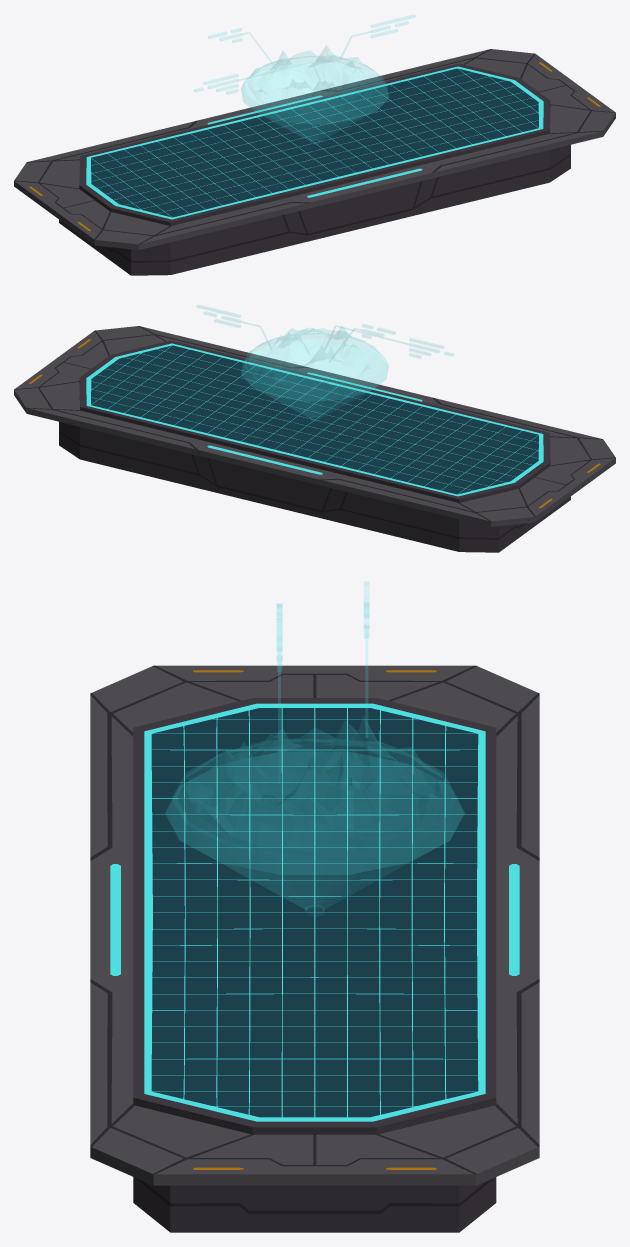
Rendered from SM_Props_Furniture_04.fbx.
3 renders of one model, top to bottom at view 1: azimuth 30°, elevation 25°; view 2: azimuth 150°, elevation 25°; view 3: azimuth 270°, elevation 25°, orthographic. The views are drawn at different scales.
Visible parts, largest first — view 1: SM_Props_Furniture_04, SM_Props_Furniture_04_02, SM_Props_Furniture_04_01; view 2: SM_Props_Furniture_04, SM_Props_Furniture_04_02, SM_Props_Furniture_04_01; view 3: SM_Props_Furniture_04, SM_Props_Furniture_04_02, SM_Props_Furniture_04_01.
Part boxes in pixels (x1,y1,x2,y2): SM_Props_Furniture_04: [14, 49, 615, 275]; SM_Props_Furniture_04_02: [194, 15, 414, 124]; SM_Props_Furniture_04_01: [264, 114, 369, 141]; SM_Props_Furniture_04: [14, 326, 615, 552]; SM_Props_Furniture_04_02: [197, 305, 453, 401]; SM_Props_Furniture_04_01: [260, 391, 365, 418]; SM_Props_Furniture_04: [90, 665, 539, 1232]; SM_Props_Furniture_04_02: [165, 582, 464, 874]; SM_Props_Furniture_04_01: [222, 860, 412, 911].
Size of the model in its own units: 8.29 by 2.63 by 3.1.
